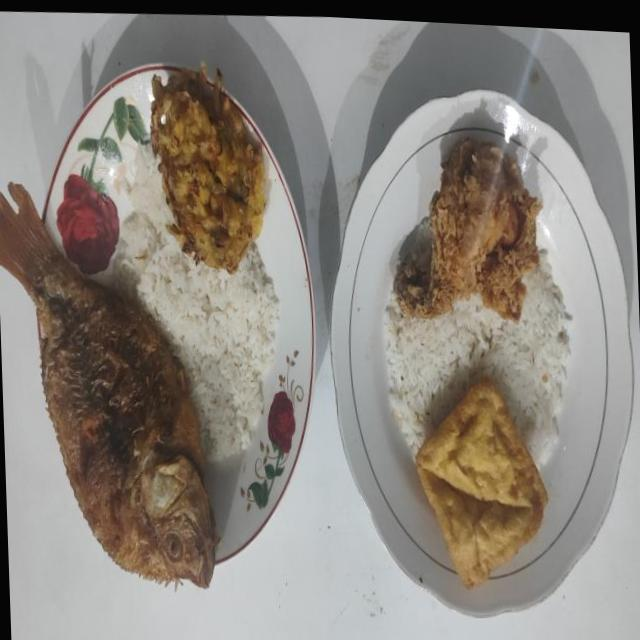ikan_mujair: (0, 182, 217, 587)
nasi_putih: (108, 147, 279, 460), (384, 248, 570, 462)
tahu_goreng: (416, 382, 548, 586)
